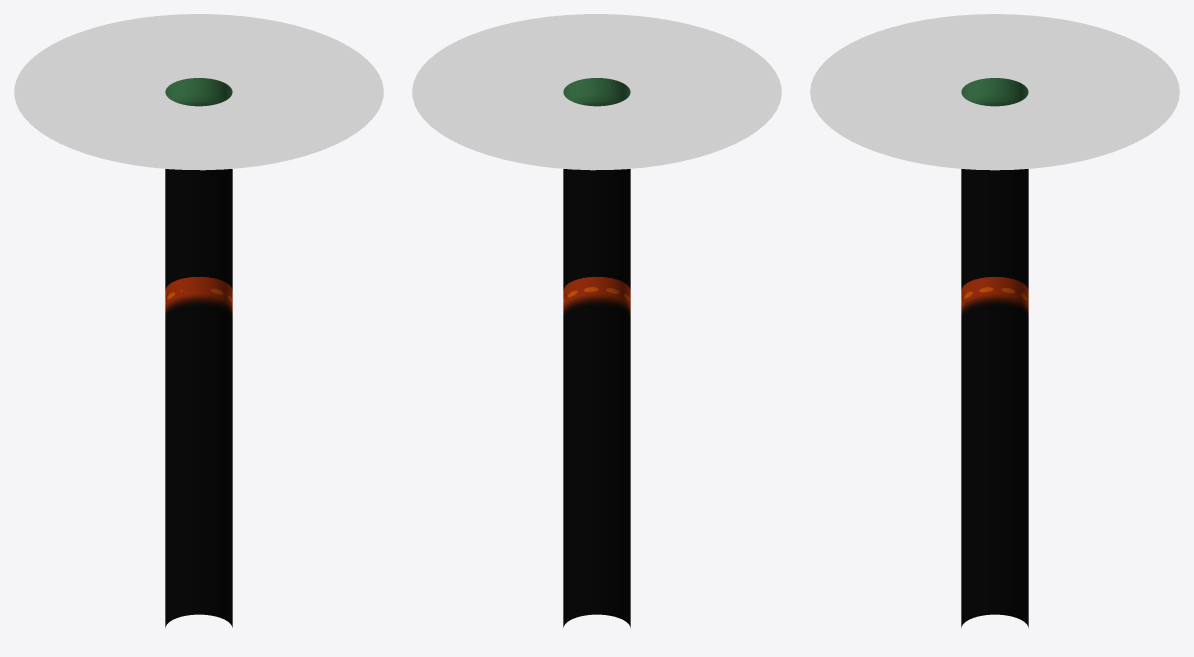
The model's file is HoleSkin.fbx.
The picture shows the model from 3 angles, left to right: view 1: azimuth 30°, elevation 25°; view 2: azimuth 150°, elevation 25°; view 3: azimuth 270°, elevation 25°; orthographic projection.
Parts seen in each view (by area): view 1: Circle; view 2: Circle; view 3: Circle.
Part boxes in pixels (x1,y1,x2,y2): Circle: (14,14,383,627); Circle: (412,14,781,627); Circle: (810,14,1179,627).
Size of the model in its own units: 220 by 353 by 220.
2 materials, 1 textured.
